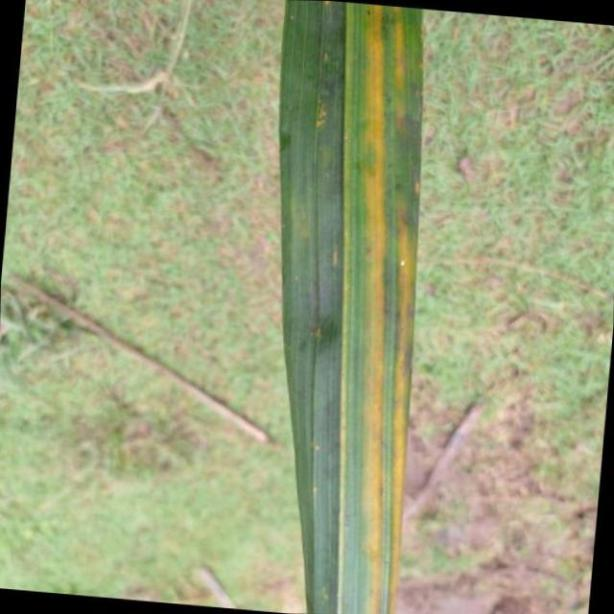Megnesium: (275, 1, 427, 614)
